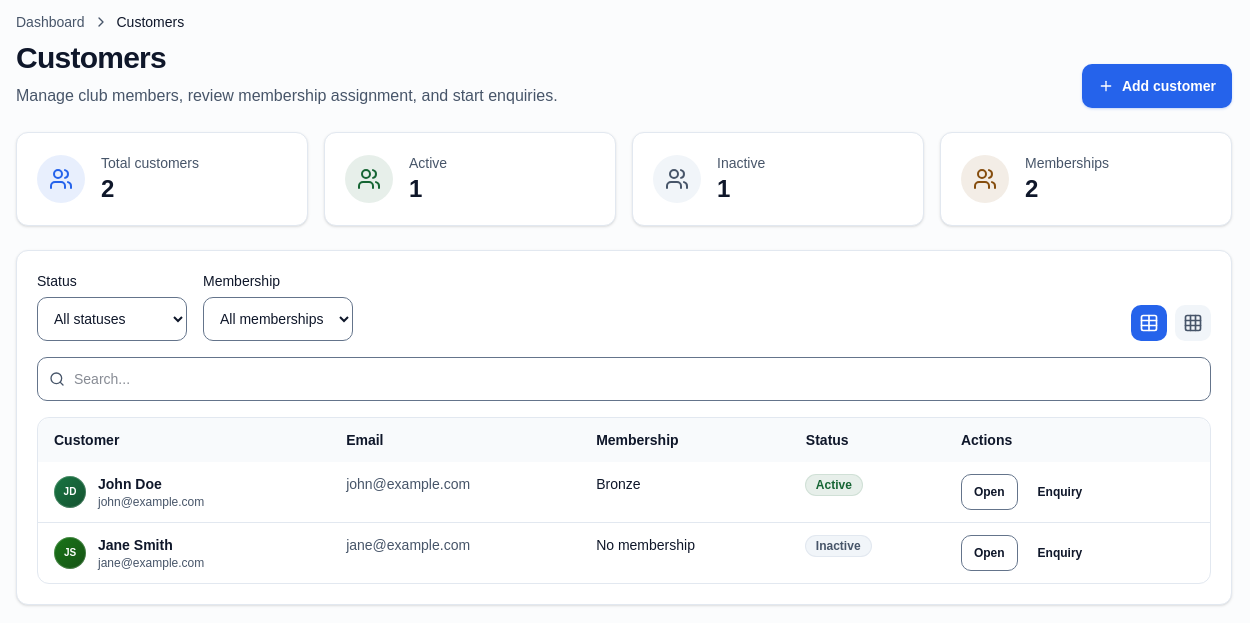
Scenario: CustomersList › filters customers by membership
Select "No membership" in the dropdown labelled "Membership" at coordinates (278, 319), box x1=203 y1=297 x2=353 y2=341
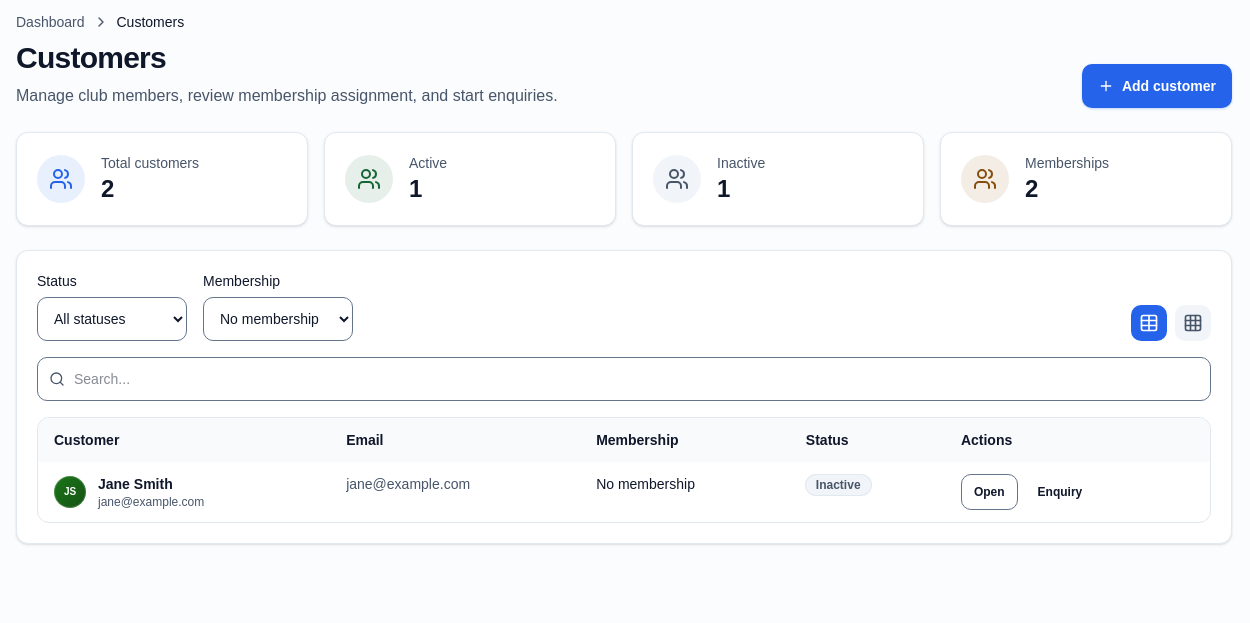
Expected: the text "Jane Smith" is shown, x1=98 y1=476 x2=173 y2=492
Expected: the text "John Doe" is gone
